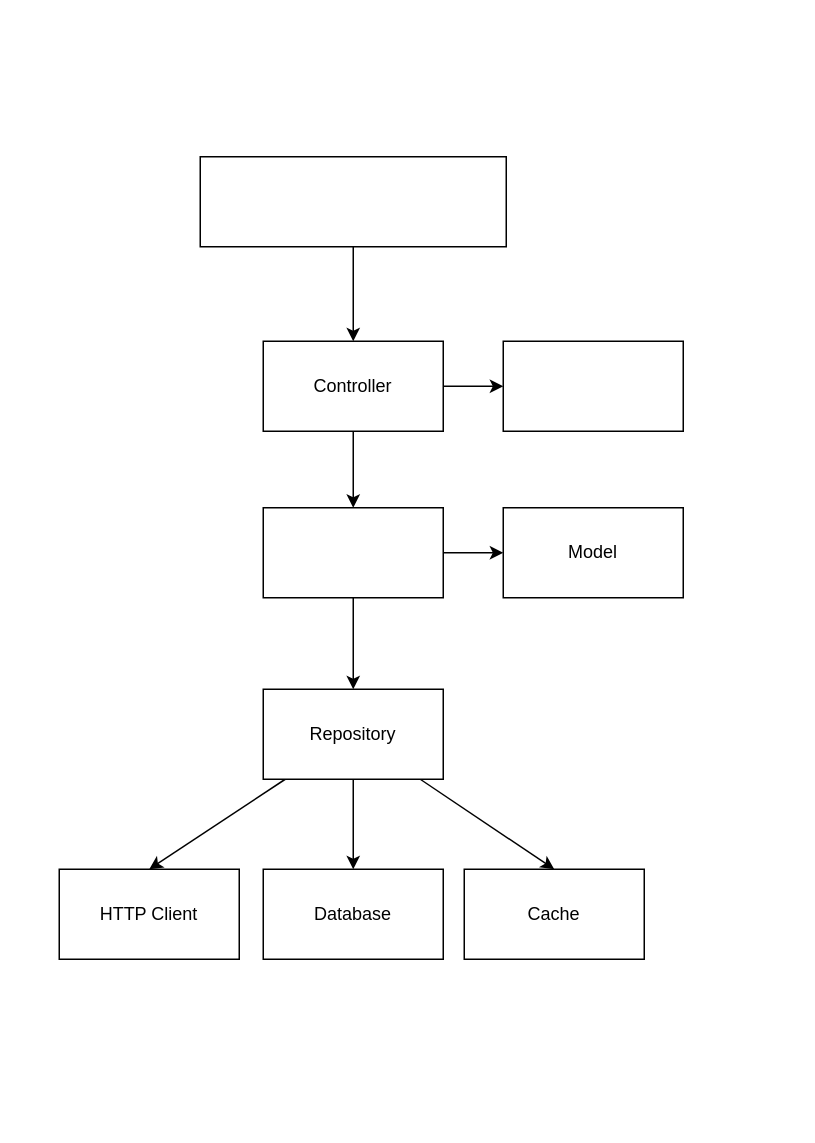
This 815x1143 diagram has some shape labels left out. The shapes that lost their labels are listed below. From the top down, each one's centre as x and y in pixels, then its label:
the point at 352,201: Index (Routes, Dependencies)
the point at 592,385: View
the point at 352,552: Service
